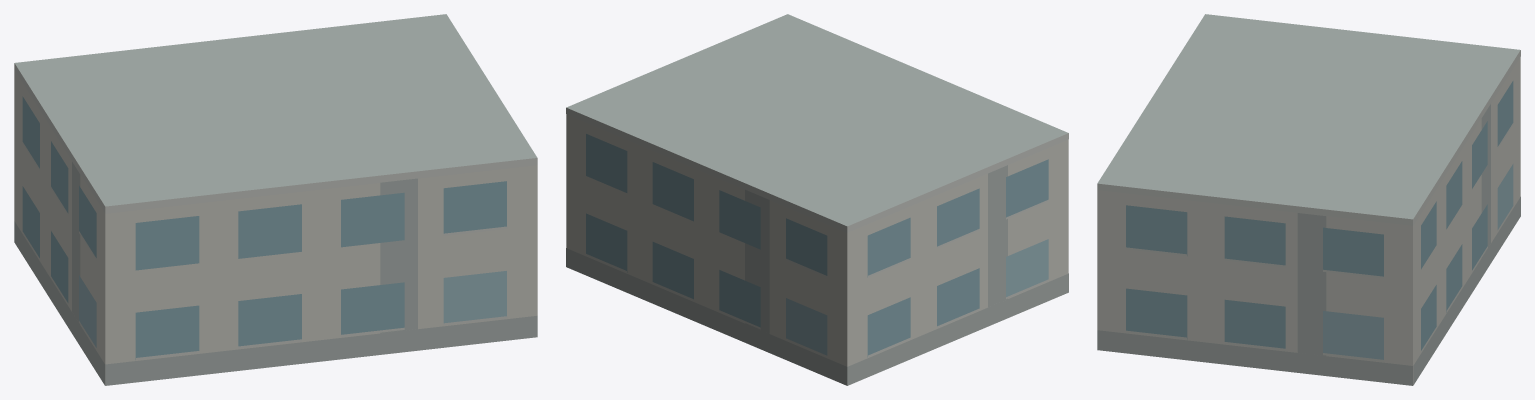
Rendered from residential-7ff7b8c8-8541-410c-896b-311e6d72965d.glb.
3 renders of one model, left to right at view 1: azimuth 30°, elevation 25°; view 2: azimuth 150°, elevation 25°; view 3: azimuth 270°, elevation 25°, orthographic. The views are drawn at different scales.
Visible parts, largest first — view 1: residential-7ff7b8c8-8541-410c-896b-311e6d72965d.tmp; view 2: residential-7ff7b8c8-8541-410c-896b-311e6d72965d.tmp; view 3: residential-7ff7b8c8-8541-410c-896b-311e6d72965d.tmp.
Part boxes in pixels (x1,y1,x2,y2): residential-7ff7b8c8-8541-410c-896b-311e6d72965d.tmp: [14, 14, 537, 385]; residential-7ff7b8c8-8541-410c-896b-311e6d72965d.tmp: [566, 14, 1068, 385]; residential-7ff7b8c8-8541-410c-896b-311e6d72965d.tmp: [1097, 14, 1520, 385].
Size of the model in its own units: 16.15 by 6.1 by 14.07.
